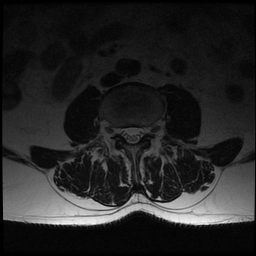CCS_normal: (128, 115, 135, 153)
LFS_normal: (144, 116, 153, 143)
LLS_normal: (135, 118, 144, 146)
RFS_normal: (111, 115, 120, 145)
RLS_normal: (120, 118, 128, 144)
